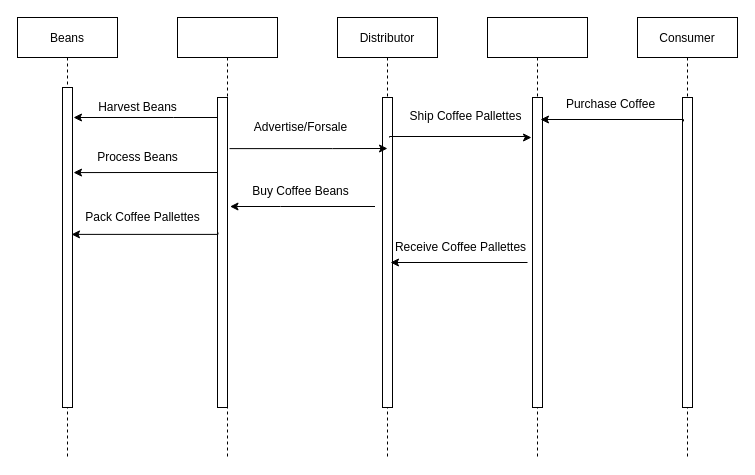
The diagram is 755 pixels wide and 475 high, and some of its shapes have lost their labels. Each missing label, with the box of its shape:
Farmer: (176, 16, 278, 458)
Retailer: (486, 16, 588, 458)
